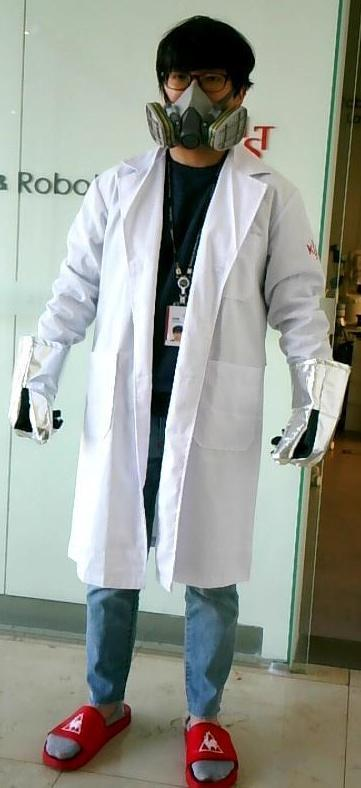lab_coat: (77, 164, 280, 572)
